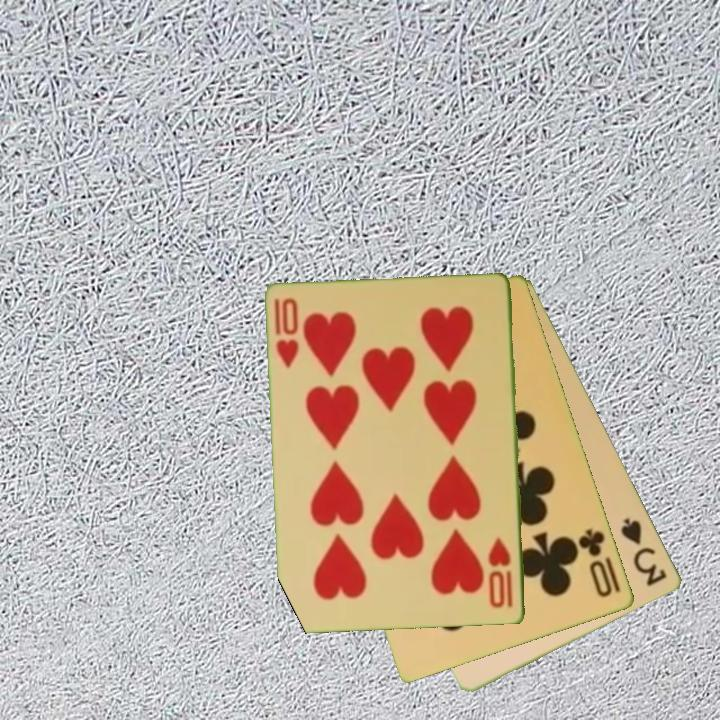10c: (575, 525, 616, 601)
10h: (271, 294, 302, 372), (486, 534, 516, 612)
3s: (618, 515, 670, 589)
